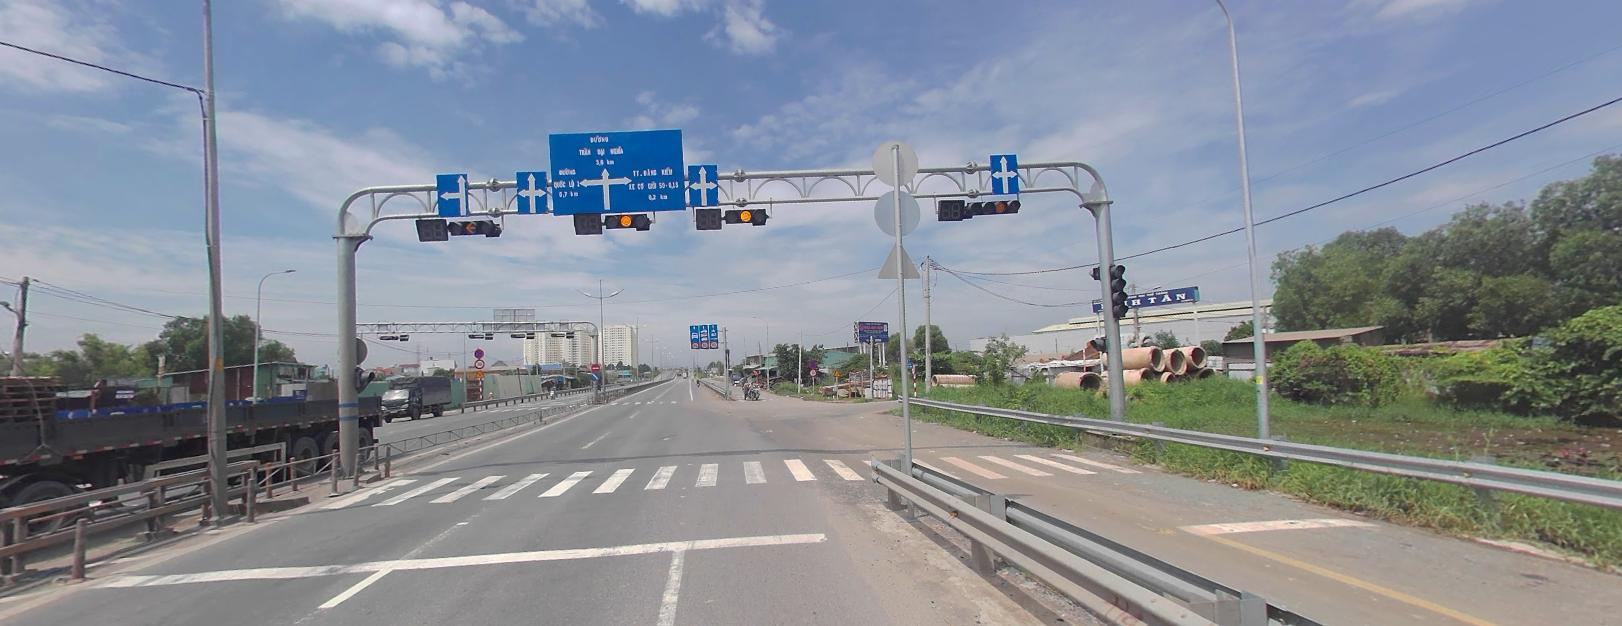Cam dung va do: (473, 347, 483, 356), (808, 358, 816, 366)
Gioi han toc do: (474, 358, 484, 366), (701, 339, 708, 346), (710, 339, 716, 346), (809, 368, 816, 374), (691, 341, 697, 347)
Nguy hiem: (474, 368, 484, 376), (832, 368, 840, 375)
